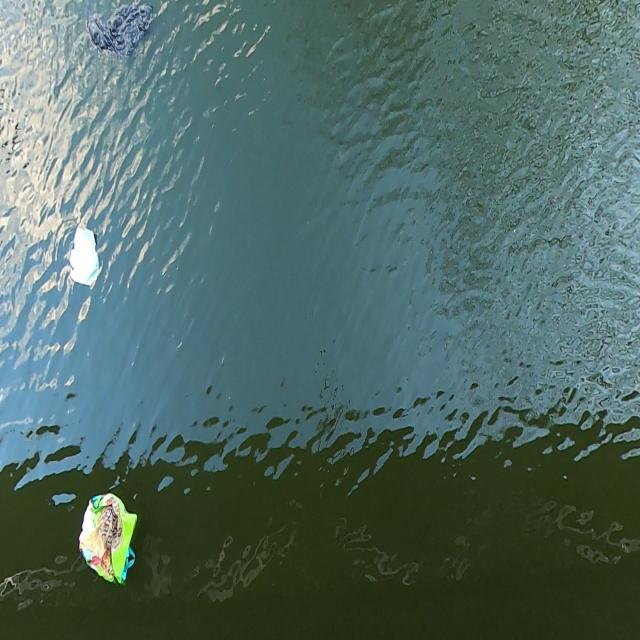Sac plastique: (77, 492, 142, 594), (87, 0, 156, 65), (66, 225, 105, 292)
